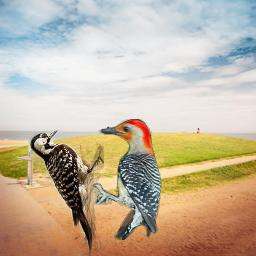Woodpecker: (30, 130, 104, 254), (93, 119, 164, 240)
